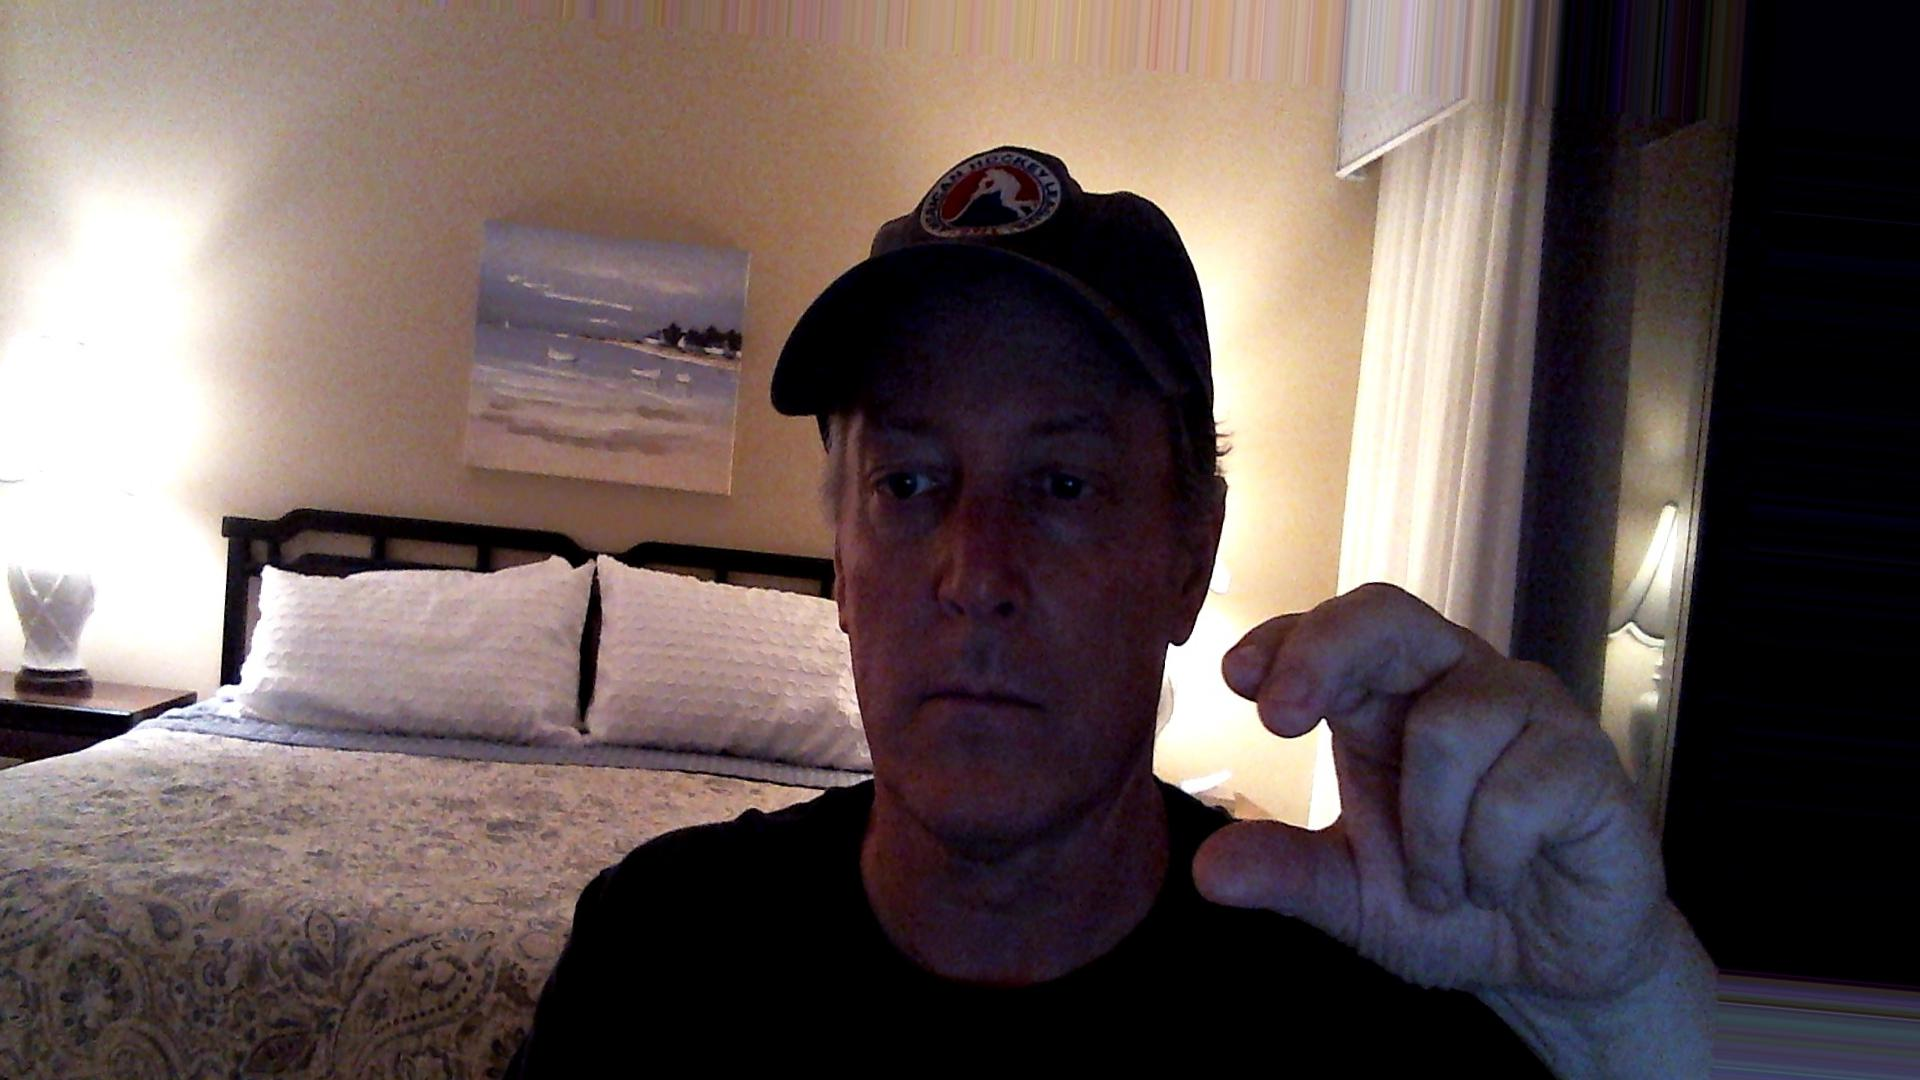No: (1167, 570, 1727, 1036)
